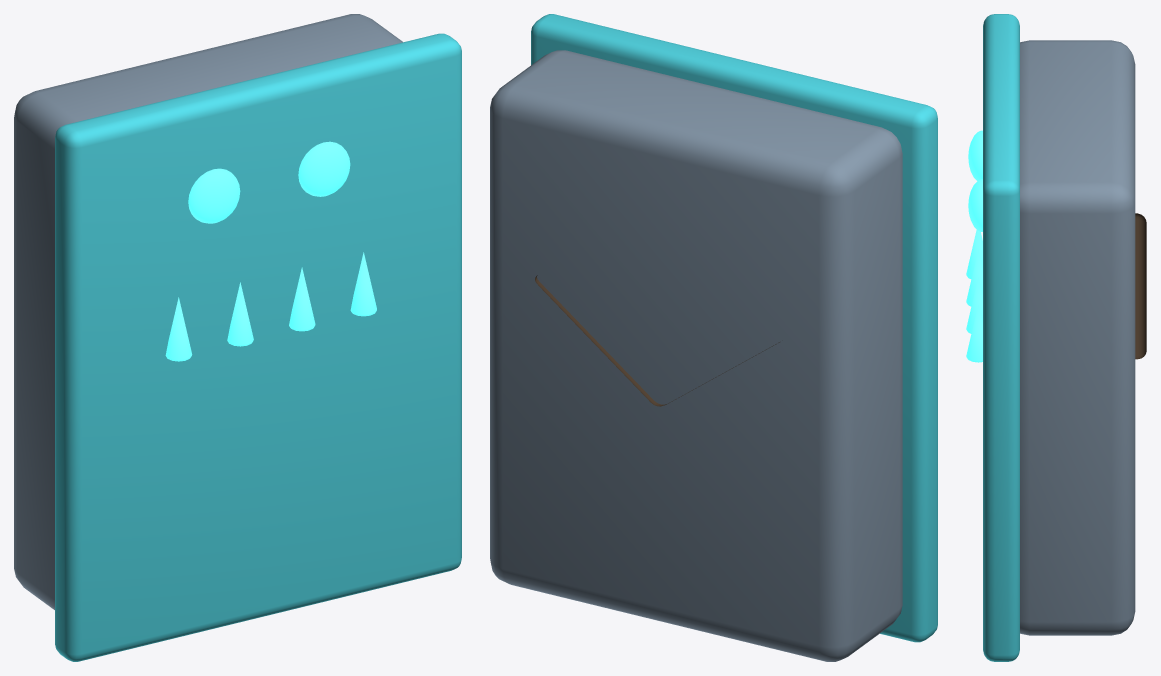
Rendered from mimic_v7.glb.
3 renders of one model, left to right at view 1: azimuth 30°, elevation 25°; view 2: azimuth 150°, elevation 25°; view 3: azimuth 270°, elevation 25°, orthographic. The views are drawn at different scales.
Parts seen in each view (by area): view 1: BOOK_COVER_ACCENT, BOOK_BODY_PRIMARY, EYE_EMISSIVE, EYE_EMISSIVE.001, BOOK_TOOTH_EMISSIVE, BOOK_TOOTH_EMISSIVE.001, BOOK_TOOTH_EMISSIVE.002, BOOK_TOOTH_EMISSIVE.003; view 2: BOOK_BODY_PRIMARY, BOOK_COVER_ACCENT, BOOK_MOUTH_SECONDARY; view 3: BOOK_BODY_PRIMARY, BOOK_COVER_ACCENT, BOOK_MOUTH_SECONDARY, BOOK_TOOTH_EMISSIVE.003, EYE_EMISSIVE.001, EYE_EMISSIVE, BOOK_TOOTH_EMISSIVE.001, BOOK_TOOTH_EMISSIVE.002, BOOK_TOOTH_EMISSIVE.
Part boxes in pixels (bbox=[...]): BOOK_COVER_ACCENT: bbox=[55, 33, 461, 661]; BOOK_BODY_PRIMARY: bbox=[14, 14, 402, 609]; EYE_EMISSIVE: bbox=[188, 168, 240, 223]; EYE_EMISSIVE.001: bbox=[298, 141, 350, 196]; BOOK_TOOTH_EMISSIVE: bbox=[165, 297, 192, 361]; BOOK_TOOTH_EMISSIVE.001: bbox=[227, 282, 253, 346]; BOOK_TOOTH_EMISSIVE.002: bbox=[289, 267, 315, 331]; BOOK_TOOTH_EMISSIVE.003: bbox=[350, 252, 376, 316]; BOOK_BODY_PRIMARY: bbox=[490, 50, 902, 661]; BOOK_COVER_ACCENT: bbox=[531, 14, 937, 642]; BOOK_MOUTH_SECONDARY: bbox=[535, 275, 779, 406]; BOOK_BODY_PRIMARY: bbox=[1020, 40, 1135, 635]; BOOK_COVER_ACCENT: bbox=[983, 14, 1019, 661]; BOOK_MOUTH_SECONDARY: bbox=[1135, 213, 1146, 359]; BOOK_TOOTH_EMISSIVE.003: bbox=[966, 304, 982, 362]; EYE_EMISSIVE.001: bbox=[968, 179, 982, 231]; EYE_EMISSIVE: bbox=[968, 130, 982, 180]; BOOK_TOOTH_EMISSIVE.001: bbox=[966, 249, 982, 306]; BOOK_TOOTH_EMISSIVE.002: bbox=[966, 277, 982, 333]; BOOK_TOOTH_EMISSIVE: bbox=[966, 230, 982, 278].
Size of the model in its own units: 1.4 by 1.79 by 0.6106.
